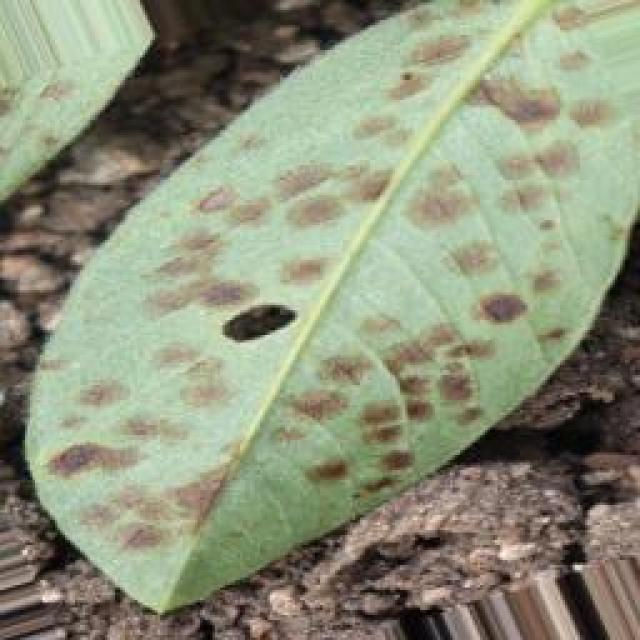Whitefly: (0, 0, 601, 603)
